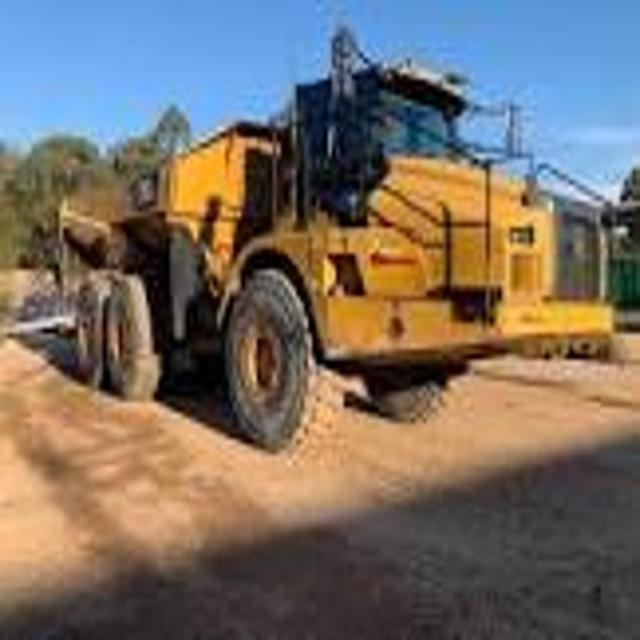dump_truck: (47, 35, 624, 465)
